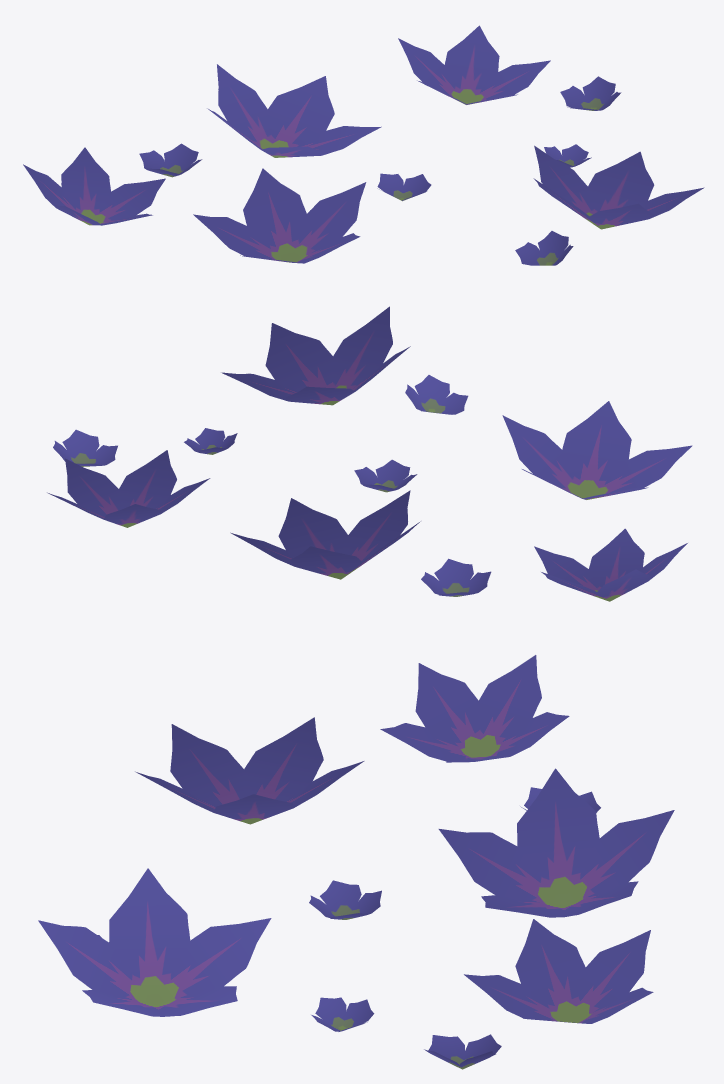
Rendered from SM_Env_Flower_03.fbx.
3 renders of one model, top to bottom at view 1: azimuth 30°, elevation 25°; view 2: azimuth 150°, elevation 25°; view 3: azimuth 270°, elevation 25°, orthographic. The views are drawn at different scales.
Visible parts, largest first — view 1: SM_Env_Flower_03; view 2: SM_Env_Flower_03; view 3: SM_Env_Flower_03.
Boxes of the visible parts, x1,y1,x2,y2 form: SM_Env_Flower_03: [23, 25, 704, 265]; SM_Env_Flower_03: [47, 306, 692, 601]; SM_Env_Flower_03: [38, 655, 674, 1069].
Size of the model in its own units: 64.24 by 7.97 by 49.34.
